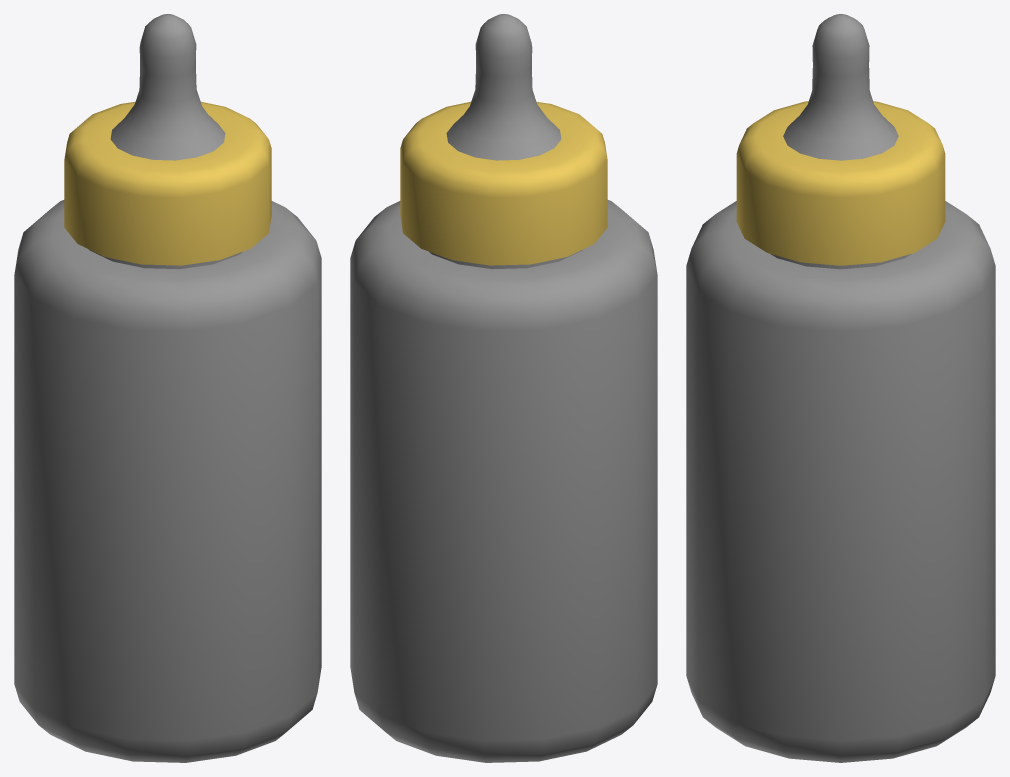
The model's file is baby_bottle.fbx.
The picture shows the model from 3 angles, left to right: view 1: azimuth 30°, elevation 25°; view 2: azimuth 150°, elevation 25°; view 3: azimuth 270°, elevation 25°; orthographic projection.
Visible parts, largest first — view 1: baby_bottle; view 2: baby_bottle; view 3: baby_bottle.
Part boxes in pixels (<box>): baby_bottle: <box>14,14,321,762</box>; baby_bottle: <box>350,14,657,762</box>; baby_bottle: <box>686,14,995,762</box>.
Size of the model in its own units: 0.0479 by 0.1186 by 0.0479.
